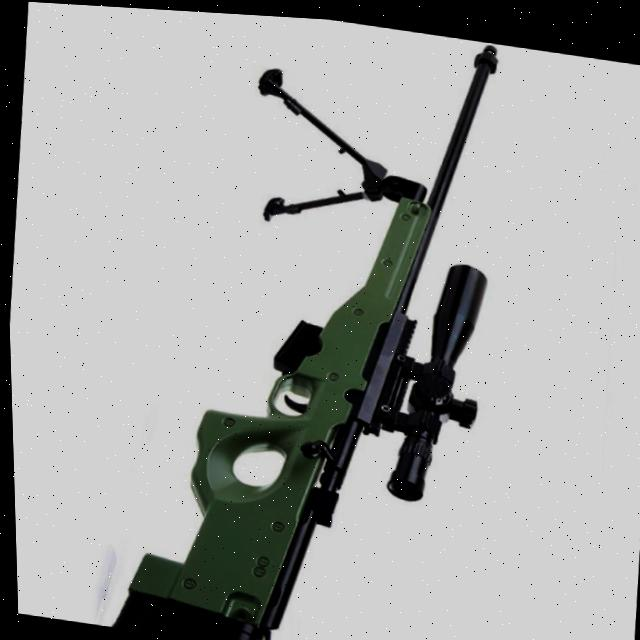firearm: (79, 4, 518, 640)
